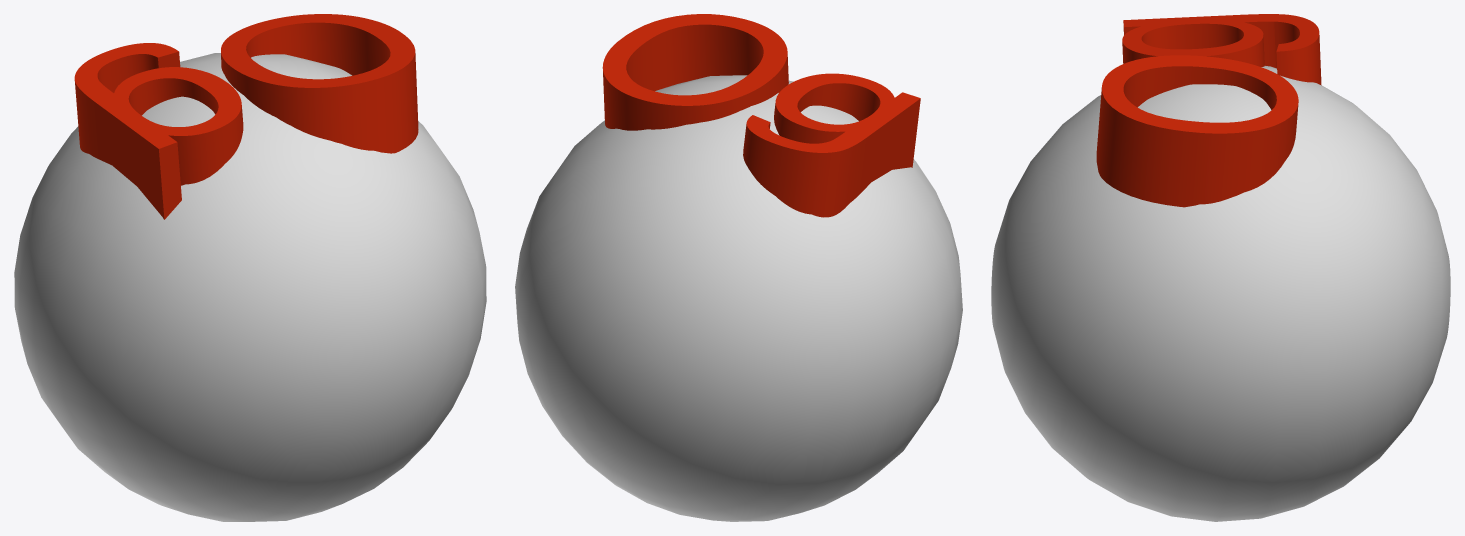
3 views of the same model, side by side, from view 1: azimuth 30°, elevation 25°; view 2: azimuth 150°, elevation 25°; view 3: azimuth 270°, elevation 25° (orthographic). The views are drawn at different scales.
Visible parts, largest first — view 1: Object004, Object006, Object005; view 2: Object004, Object005, Object006; view 3: Object004, Object006, Object005.
Boxes of the visible parts, <box> form: Object004: <box>14,53,486,521</box>; Object006: <box>221,14,418,153</box>; Object005: <box>74,43,243,219</box>; Object004: <box>515,75,962,521</box>; Object005: <box>743,73,920,217</box>; Object006: <box>602,14,788,130</box>; Object004: <box>991,66,1450,521</box>; Object006: <box>1096,55,1298,207</box>; Object005: <box>1122,14,1321,85</box>.
Size of the model in its own units: 38.53 by 40.66 by 38.58.
